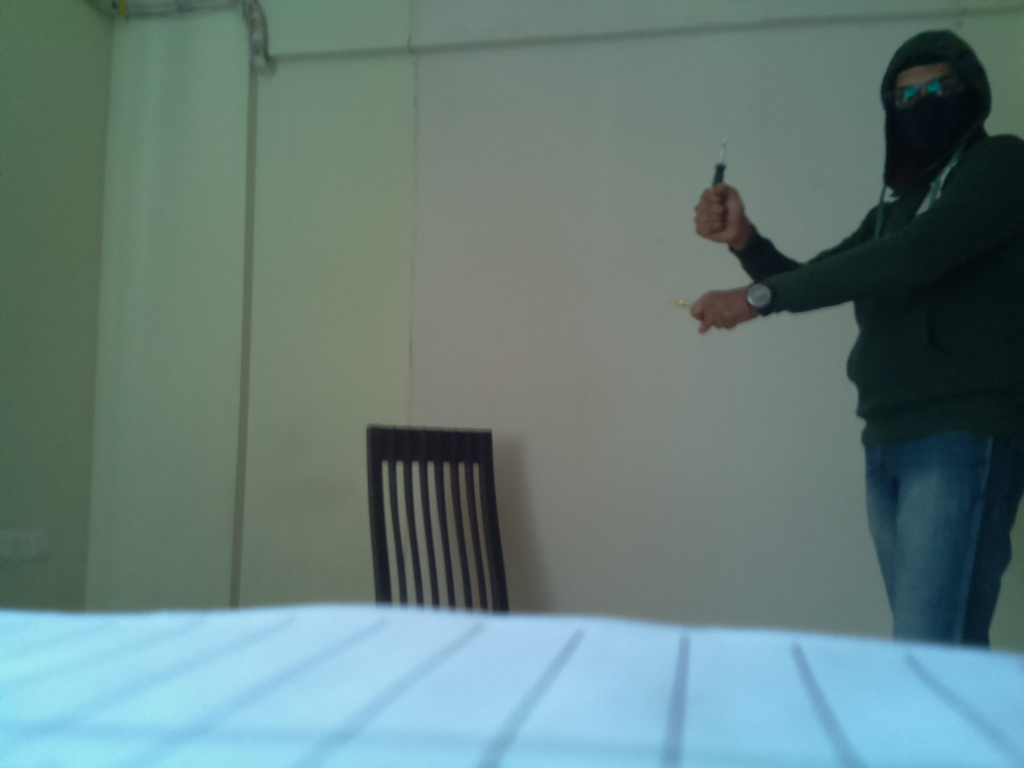none3: (705, 127, 740, 197)
